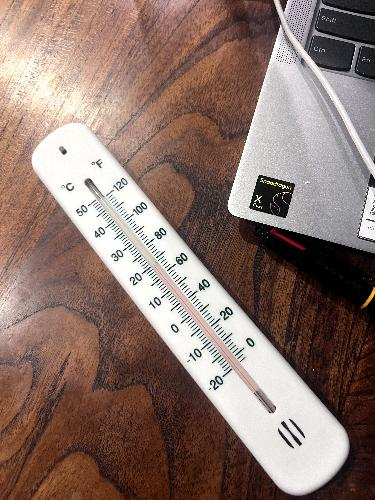thermo: (22, 102, 359, 500)
